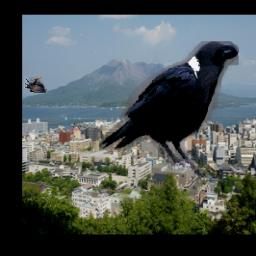Crow: (100, 41, 240, 179), (24, 77, 47, 93)
